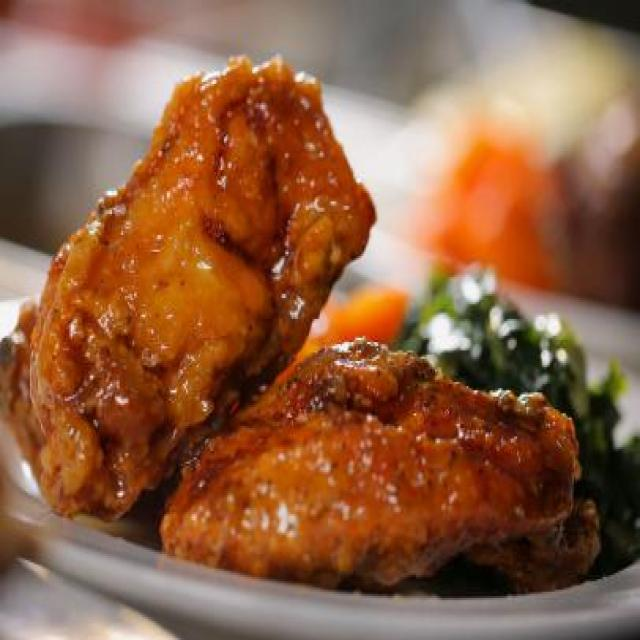Frango: (0, 54, 601, 594)
